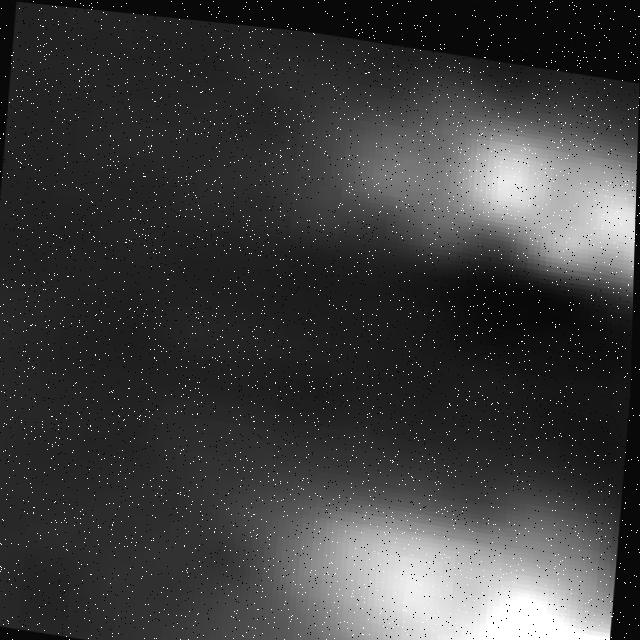person: (153, 438, 624, 640), (273, 44, 640, 292)
